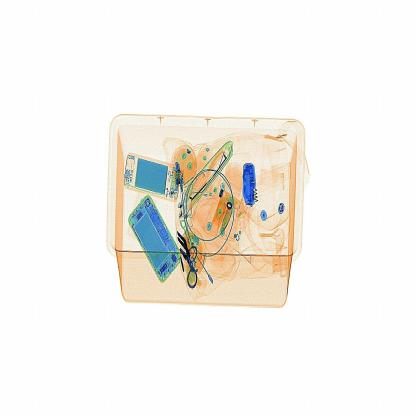scissors: (238, 160, 264, 217)
